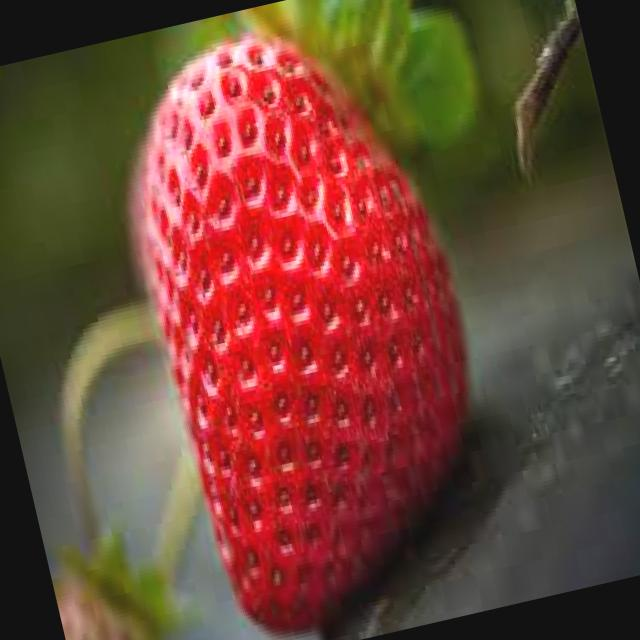strawberry: (81, 1, 542, 640)
